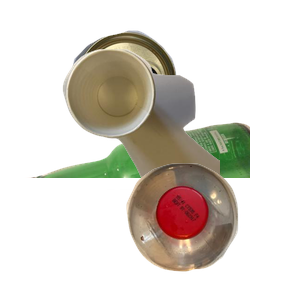glass: (23, 120, 263, 300)
metal: (68, 28, 237, 159)
plastic: (124, 161, 300, 300)
trash: (60, 47, 300, 227)
